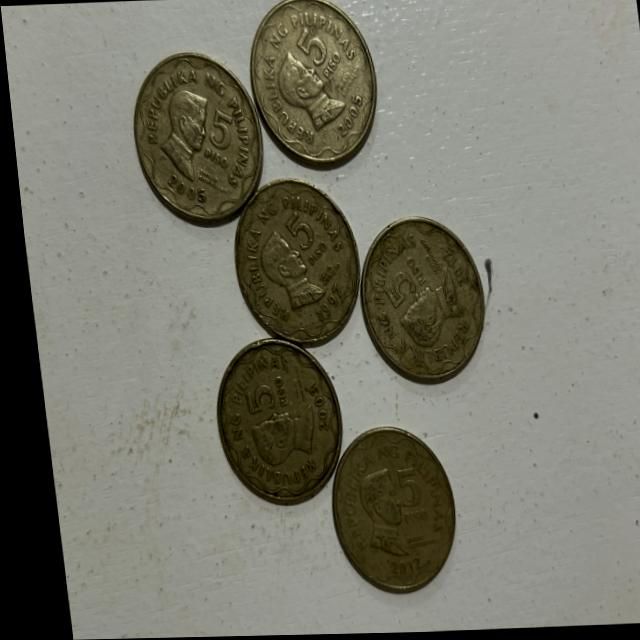5_Old_Front: (226, 351, 286, 423), (192, 102, 245, 176), (377, 455, 420, 535), (368, 260, 431, 312), (273, 208, 325, 270), (294, 32, 343, 84)
